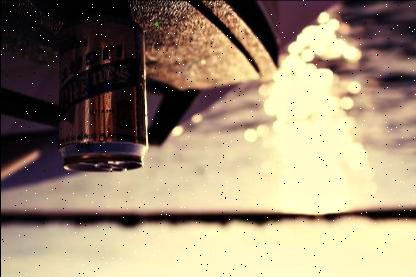Can: (54, 12, 146, 174)
